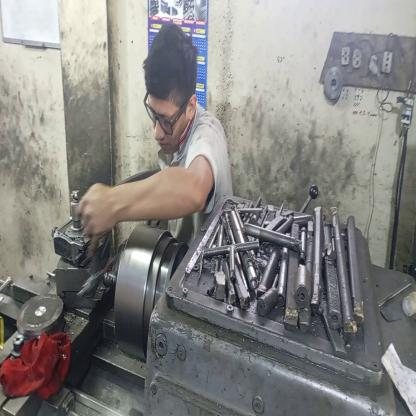lentes: (140, 88, 193, 135)
